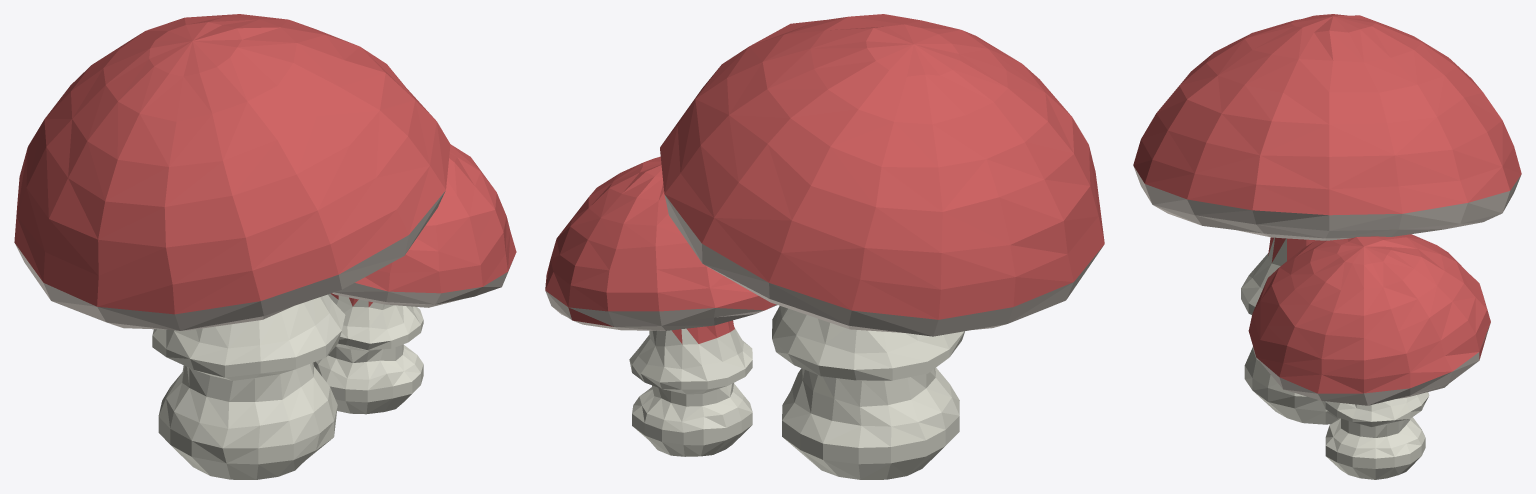
Rendered from nat_kinoko2.glb.
3 renders of one model, left to right at view 1: azimuth 30°, elevation 25°; view 2: azimuth 150°, elevation 25°; view 3: azimuth 270°, elevation 25°, orthographic. The views are drawn at different scales.
Parts seen in each view (by area): view 1: geometry_0; view 2: geometry_0; view 3: geometry_0.
Part boxes in pixels (x1,y1,x2,y2): geometry_0: (14,14,516,479); geometry_0: (545,14,1104,479); geometry_0: (1133,14,1521,479).
Bounding box in the file's own units: 0.0605 × 0.0518 × 0.0493.
